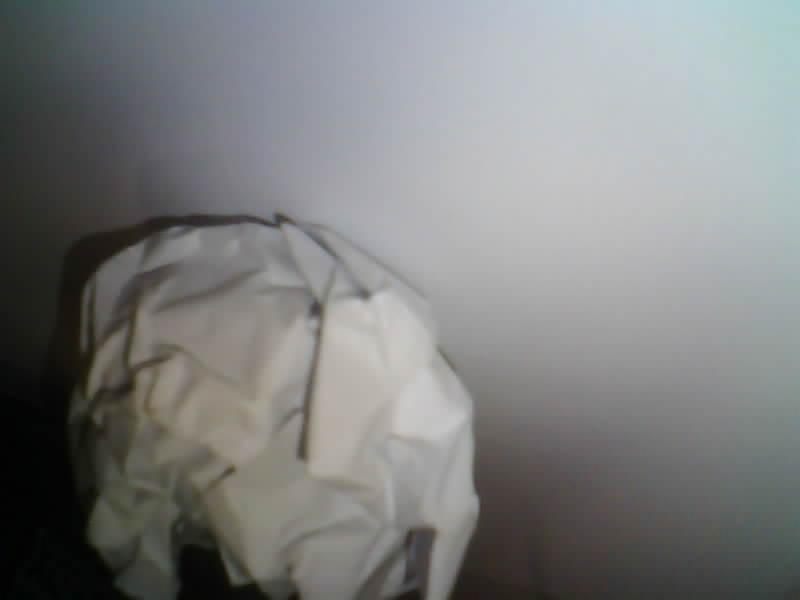biodegradable: (67, 218, 478, 599)
